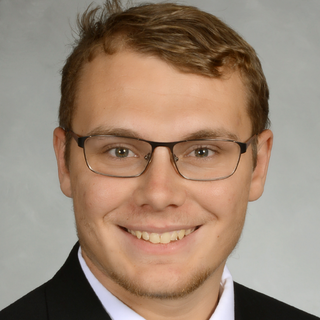eye: (97, 141, 143, 167), (179, 142, 219, 165)
